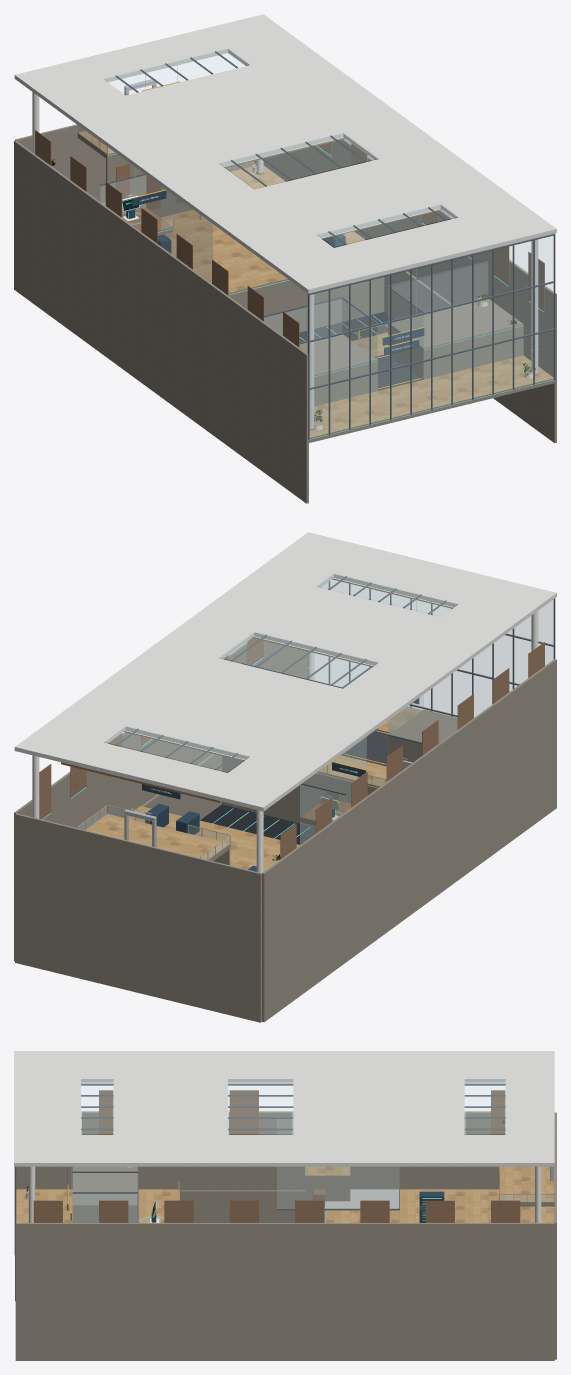
Rendered from world.glb.
The picture shows the model from 3 angles, top to bottom: view 1: azimuth 30°, elevation 25°; view 2: azimuth 150°, elevation 25°; view 3: azimuth 270°, elevation 25°; orthographic projection. The views are drawn at different scales.
Visible parts, largest first — view 1: LM_concrete, LM_plaster, GL_G_glass, LM_marble, LM_alu, LM_walnut, LM_white, LM_navy, LM_dark, LM_rubber, EM_E_cyan; view 2: LM_concrete, LM_plaster, GL_G_glass, LM_walnut, LM_marble, LM_alu, LM_dark, LM_white, LM_navy, LM_rubber; view 3: LM_concrete, LM_plaster, GL_G_glass, LM_walnut, LM_marble, LM_alu, LM_paving, LM_white, LM_navy.
Boxes of the visible parts, x1,y1,x2,y2 form: LM_concrete: (14,124,556,503); LM_plaster: (14,14,556,293); GL_G_glass: (78,48,553,437); LM_marble: (78,131,553,437); LM_alu: (100,51,555,439); LM_walnut: (35,130,544,347); LM_white: (32,79,538,430); LM_navy: (126,190,424,355); LM_dark: (299,312,394,342); LM_rubber: (374,355,422,390); EM_E_cyan: (108,146,553,439); LM_concrete: (14,641,556,1022); LM_plaster: (14,532,556,811); GL_G_glass: (78,573,553,859); LM_walnut: (39,578,544,859); LM_marble: (86,706,421,871); LM_alu: (115,576,555,795); LM_dark: (200,804,315,844); LM_white: (32,611,538,872); LM_navy: (142,698,419,871); LM_rubber: (343,729,390,766); LM_concrete: (15,1111,556,1360); LM_plaster: (14,1051,554,1166); GL_G_glass: (72,1078,553,1222); LM_walnut: (33,1090,520,1222); LM_marble: (16,1166,554,1222); LM_alu: (14,1083,505,1301); LM_paving: (324,1189,398,1214); LM_white: (25,1166,541,1222); LM_navy: (67,1191,444,1222).
Size of the model in its own units: 32.6 by 26.82 by 66.5.
Materials: 24 (7 with a texture image).
